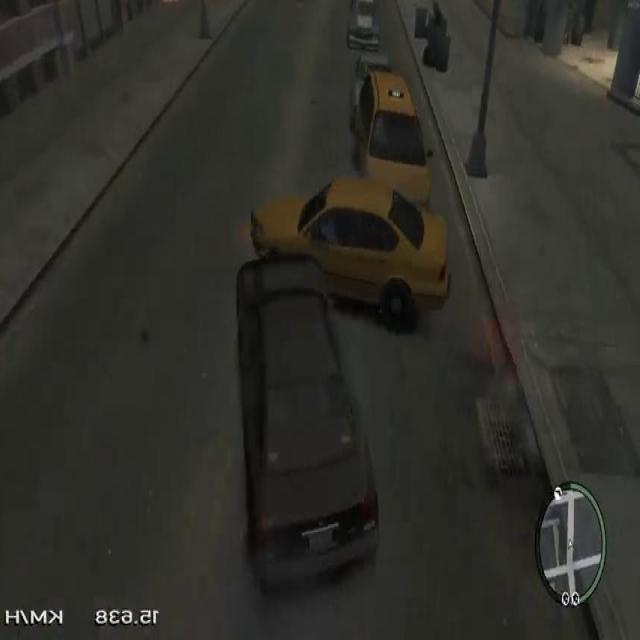accident: (227, 157, 457, 602)
